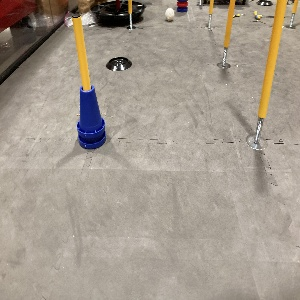Blue_2: (76, 84, 106, 150)
